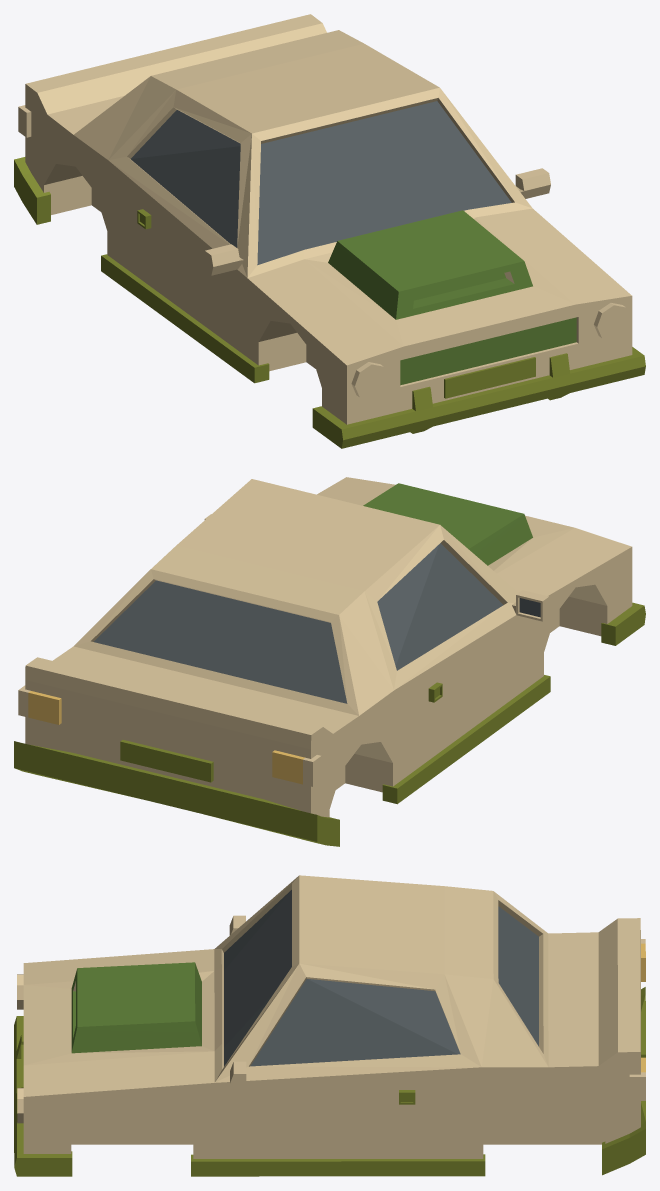
Rendered from Car_07.fbx.
The picture shows the model from 3 angles, top to bottom: view 1: azimuth 30°, elevation 25°; view 2: azimuth 150°, elevation 25°; view 3: azimuth 270°, elevation 25°; orthographic projection. The views are drawn at different scales.
Visible parts, largest first — view 1: Car_07; view 2: Car_07; view 3: Car_07.
Part boxes in pixels (x1,y1,x2,y2): Car_07: [14, 14, 645, 448]; Car_07: [14, 477, 645, 846]; Car_07: [14, 875, 645, 1176].
Bounding box in the file's own units: 1.9 × 1.09 × 3.2.
